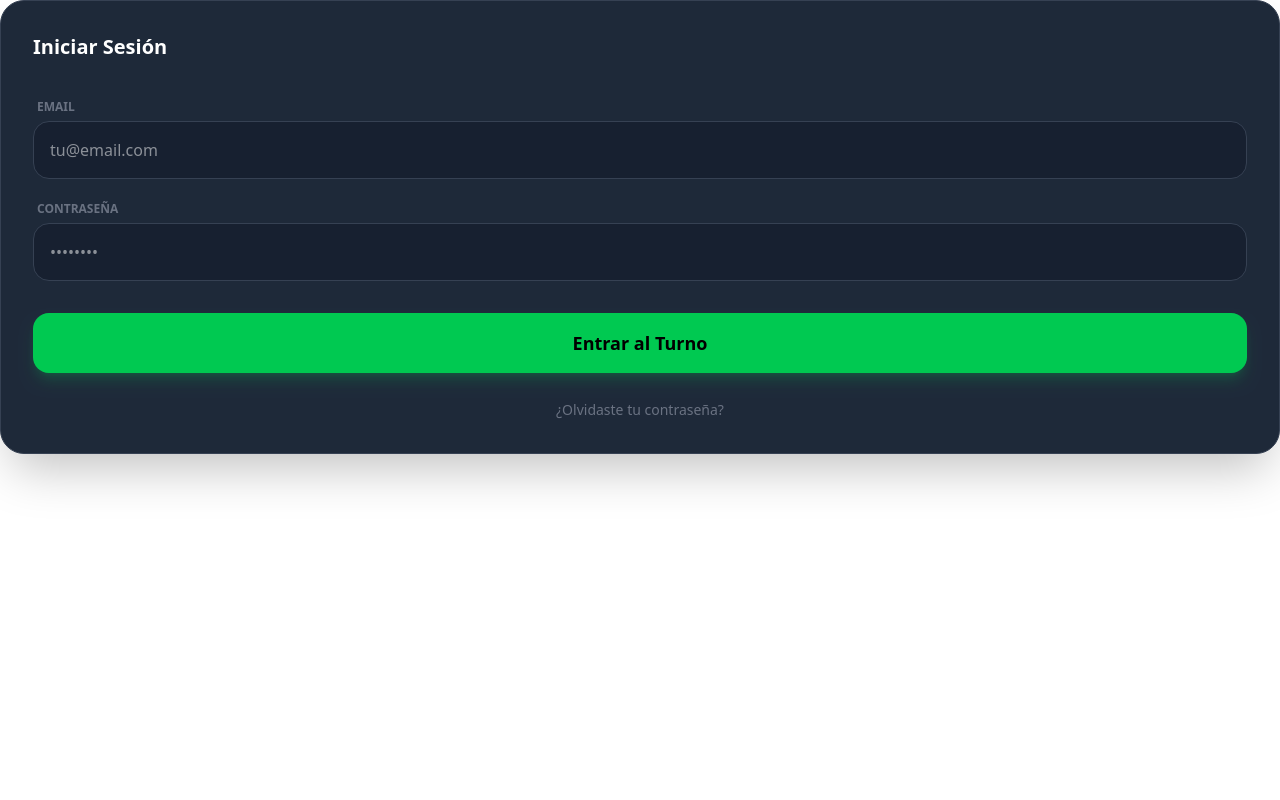
Test: Formulario de login › muestra un error si los campos están vacíos
This screenshot has width=1280, height=800.
Click the button "Entrar al Turno". click: (640, 343)
box: [33, 313, 1247, 373]
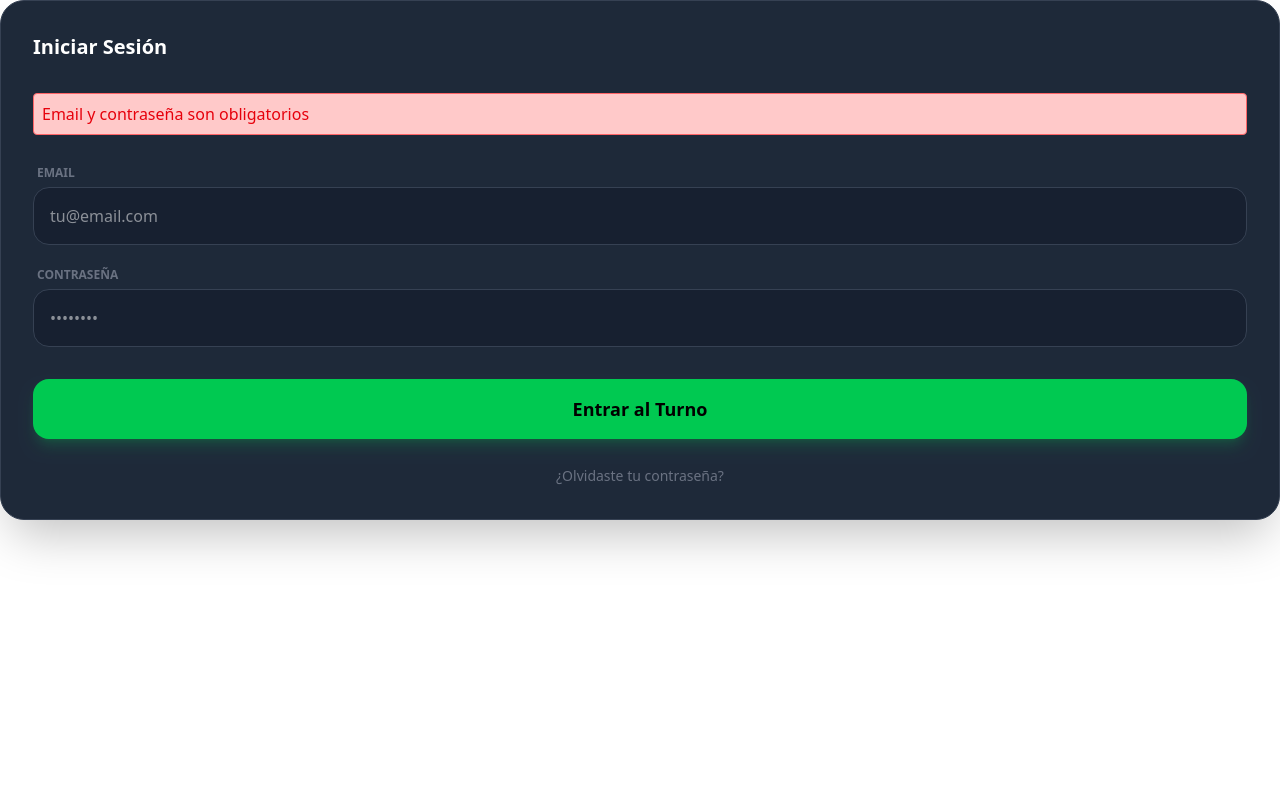
Expected: the text "Email y contraseña son obligatorios" is shown, [42, 103, 309, 125]
